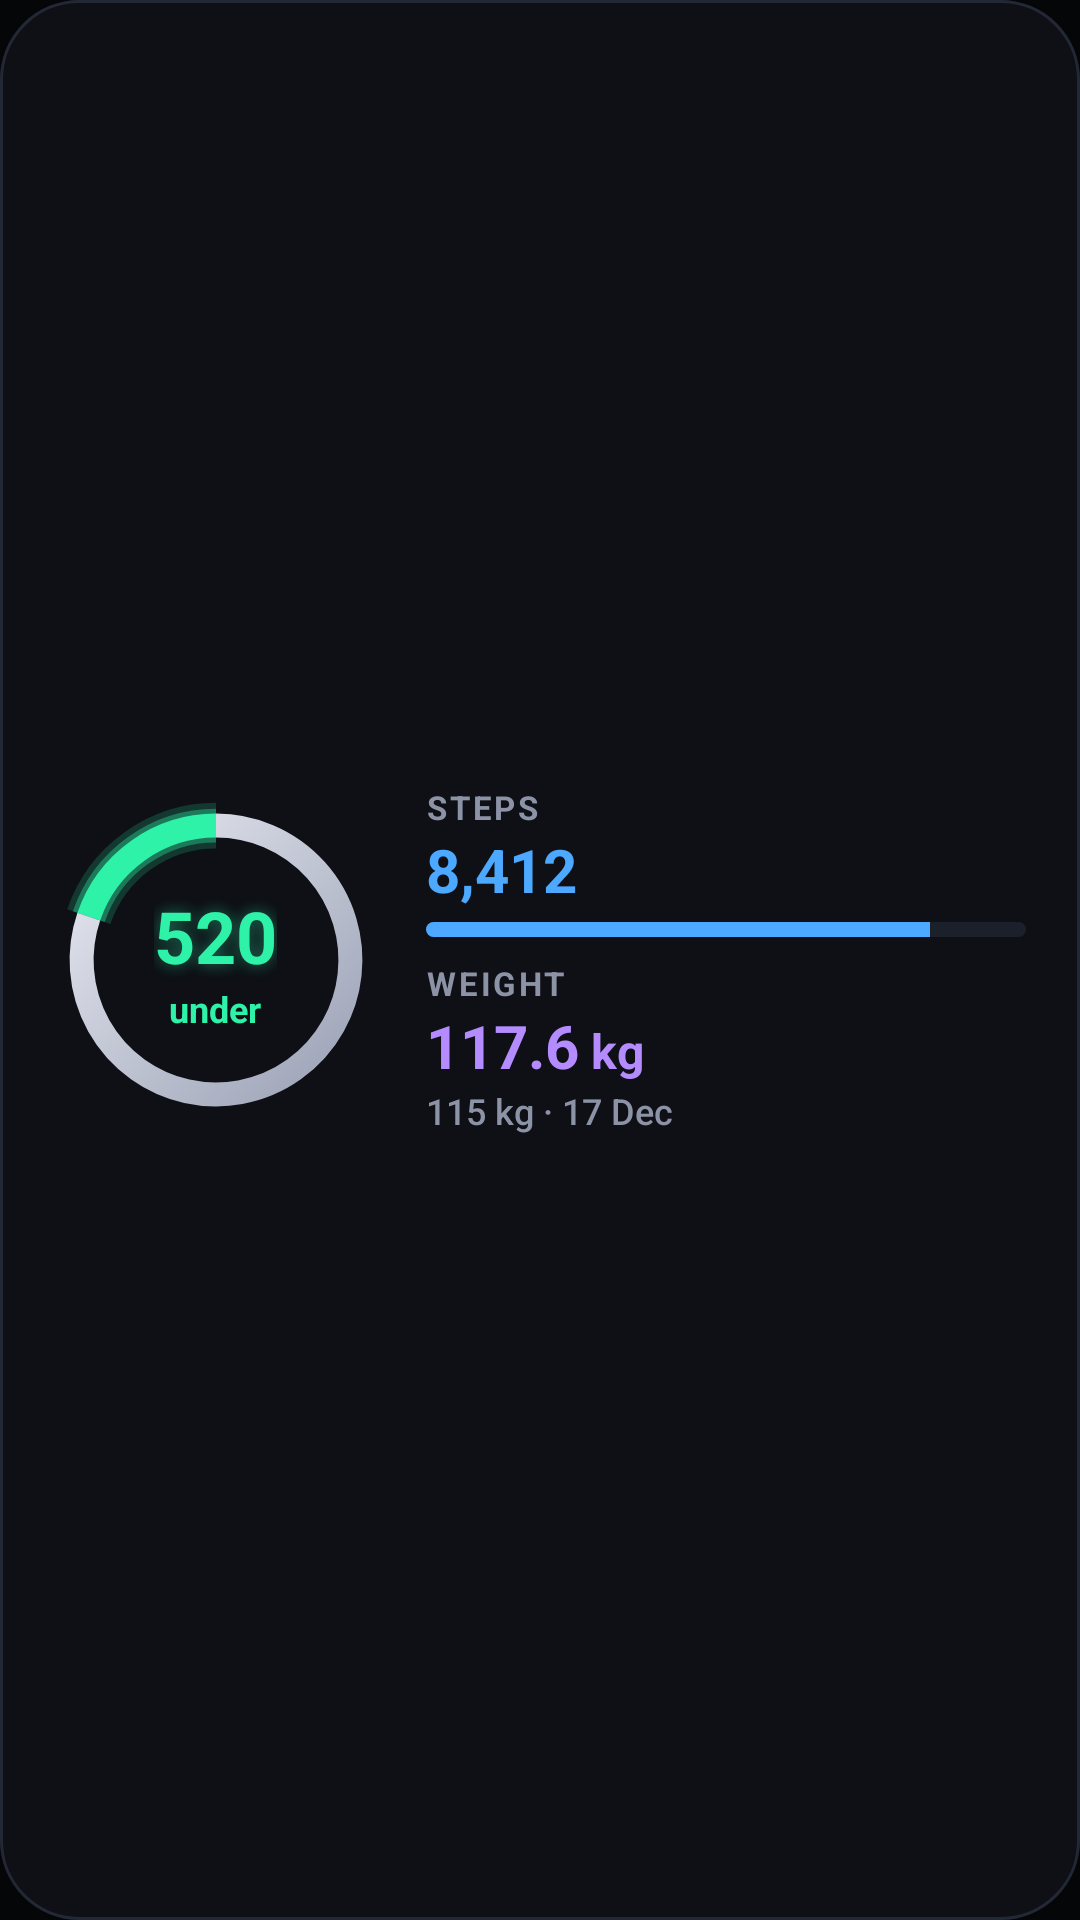

Icon click points for this 1080 × 1920 phone screenshot, format point (x, y):
widget ring: point (215, 955)
